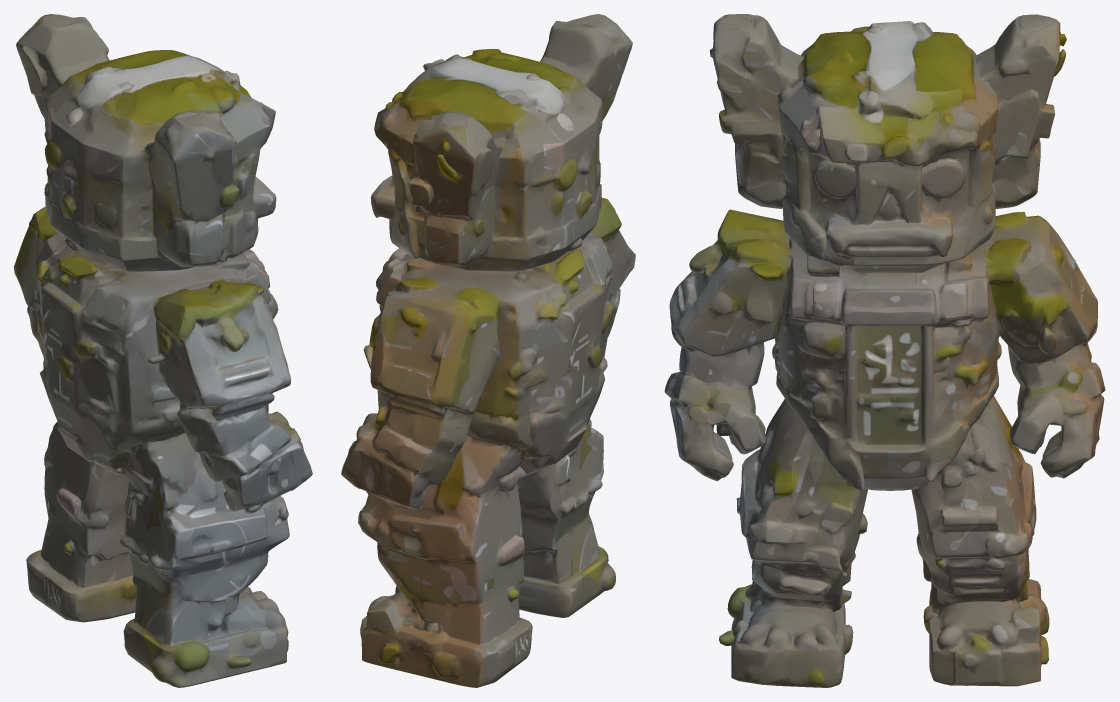
Rendered from stone_sentinel_3d.r2.glb.
3 views of the same model, side by side, from view 1: azimuth 30°, elevation 25°; view 2: azimuth 150°, elevation 25°; view 3: azimuth 270°, elevation 25° (orthographic). The views are drawn at different scales.
Visible parts, largest first — view 1: tripo_node_19080fa0-6a82-46bc-9b53-00d787195333; view 2: tripo_node_19080fa0-6a82-46bc-9b53-00d787195333; view 3: tripo_node_19080fa0-6a82-46bc-9b53-00d787195333.
Boxes of the visible parts, bbox=[...] form: tripo_node_19080fa0-6a82-46bc-9b53-00d787195333: bbox=[14, 14, 312, 687]; tripo_node_19080fa0-6a82-46bc-9b53-00d787195333: bbox=[341, 14, 635, 687]; tripo_node_19080fa0-6a82-46bc-9b53-00d787195333: bbox=[664, 14, 1105, 687].
Size of the model in its own units: 0.3652 by 0.9998 by 0.6474.
Materials: 1 (1 with a texture image).
